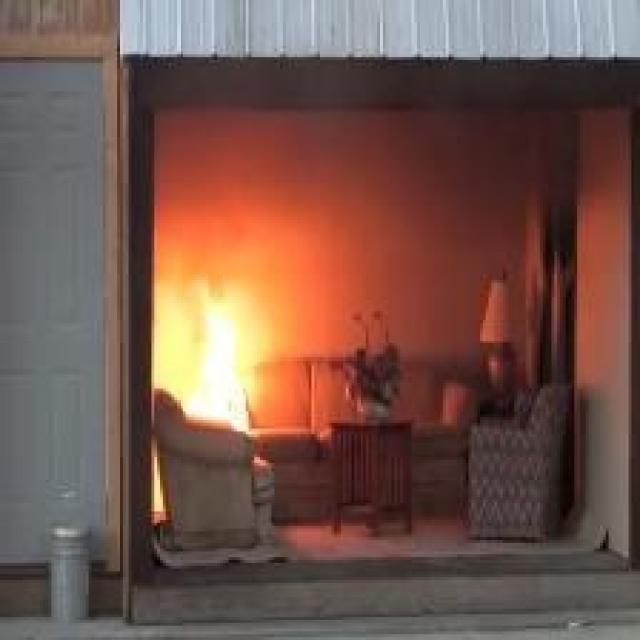fire: (150, 271, 270, 403)
